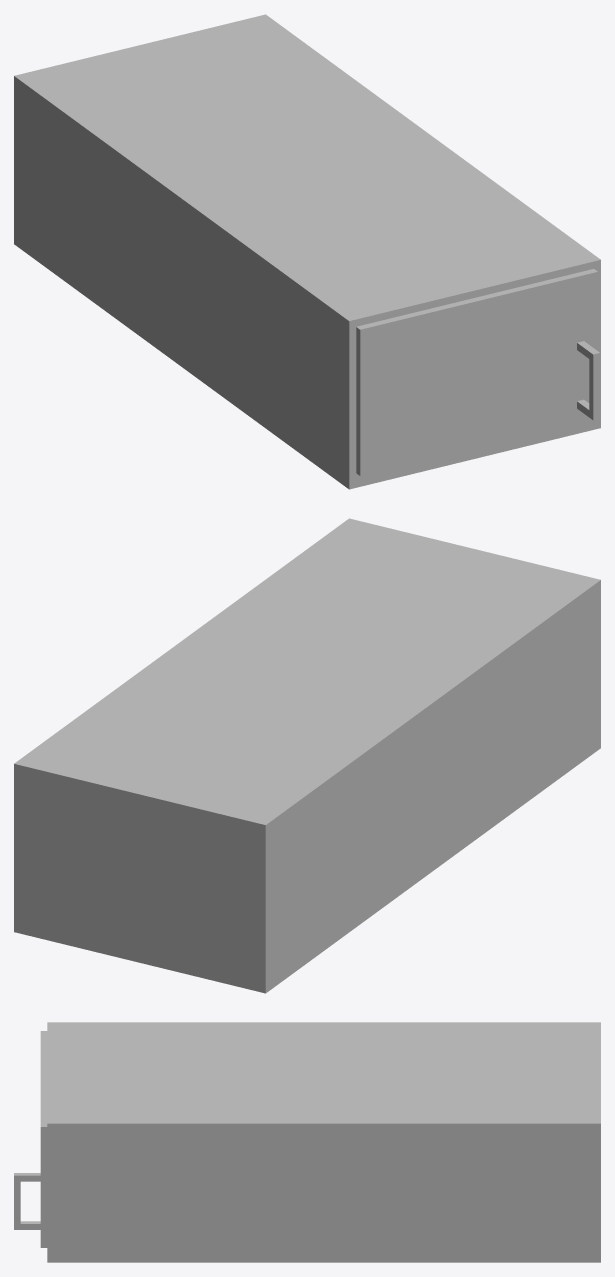
The model's file is Autopsy_room_bed3-2.fbx.
3 views of the same model, one above another, from view 1: azimuth 30°, elevation 25°; view 2: azimuth 150°, elevation 25°; view 3: azimuth 270°, elevation 25° (orthographic). The views are drawn at different scales.
Visible parts, largest first — view 1: Autopsy room bed3-2; view 2: Autopsy room bed3-2; view 3: Autopsy room bed3-2.
Part boxes in pixels (left/top/right/bottom): Autopsy room bed3-2: left=14, top=14, right=600, bottom=489; Autopsy room bed3-2: left=14, top=518, right=600, bottom=993; Autopsy room bed3-2: left=14, top=1022, right=600, bottom=1262.
Size of the model in its own units: 360 by 230 by 880.
